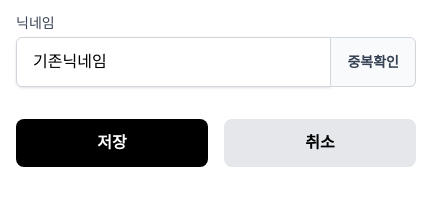
it: ProfileEditClient › 닉네임 중복 확인 실패 시 ProblemDetail.detail을 노출한다
The image size is (433, 204).
Replace the text in the field labelled "닉네임" with "새닉네임" at (174, 62), box [16, 37, 332, 87]
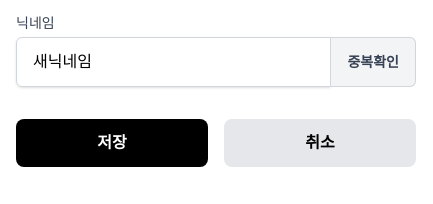
Click the button "중복확인" at (374, 62), box [332, 37, 416, 87]
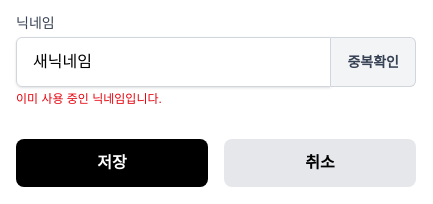
Now the text "이미 사용 중인 닉네임입니다." is shown, box [16, 92, 162, 106]
